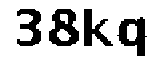3: (12, 7, 42, 50)
8: (48, 5, 80, 51)
k: (82, 6, 116, 54)
q: (116, 14, 150, 60)
